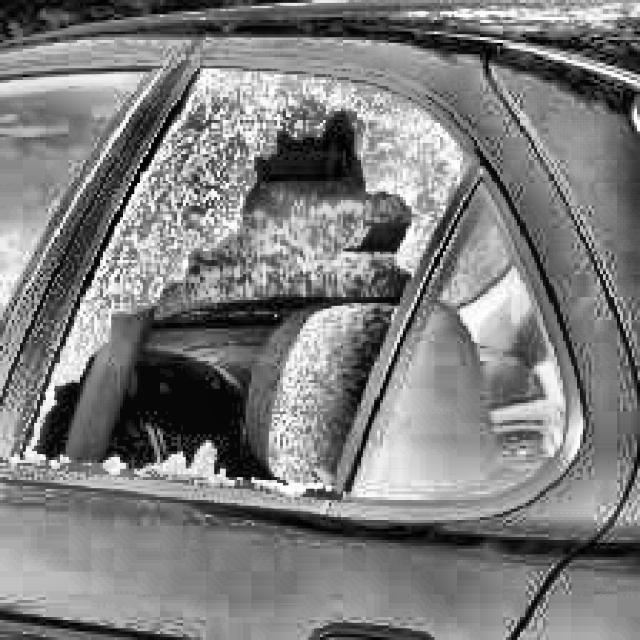glass_shatter: (61, 291, 333, 489), (195, 108, 418, 266)
